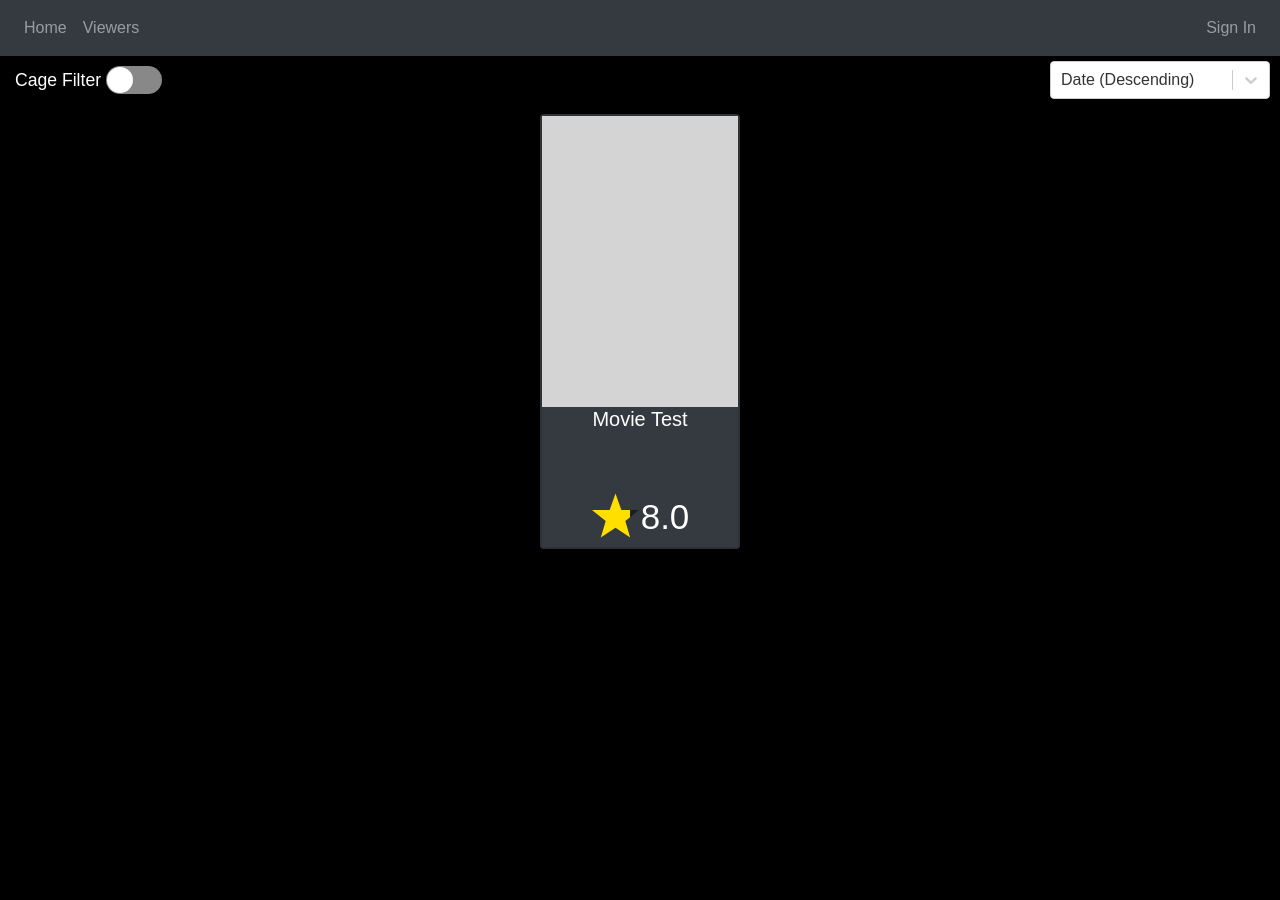
Test: App Comp › should open the sign in screen
What coordinates should you click on to do the following:
click the button "Sign In"
I would click on:
 (1231, 28)
Its box is [1206,19,1256,36].
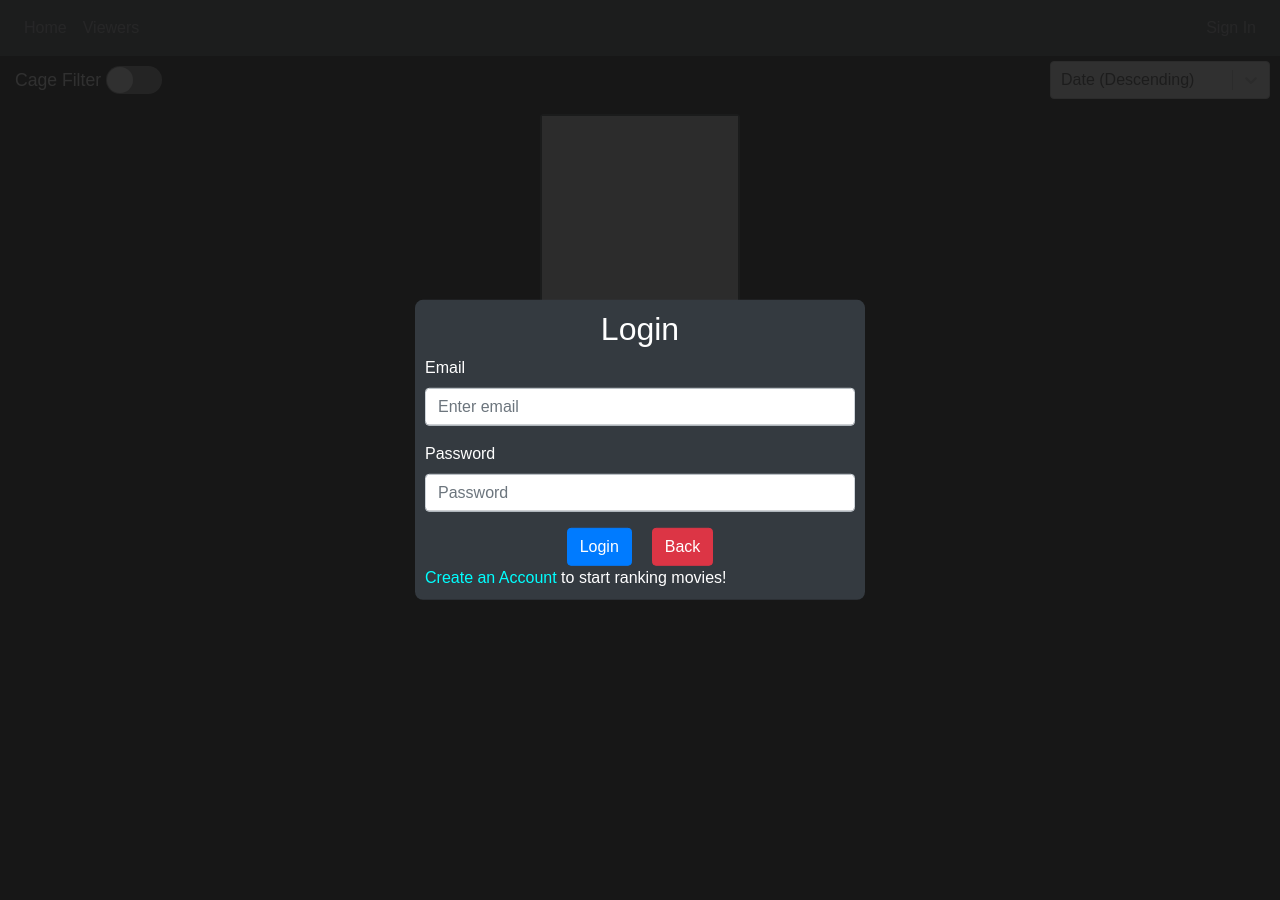
Check: the field labelled "Email" is shown, box [425,388,855,426]
